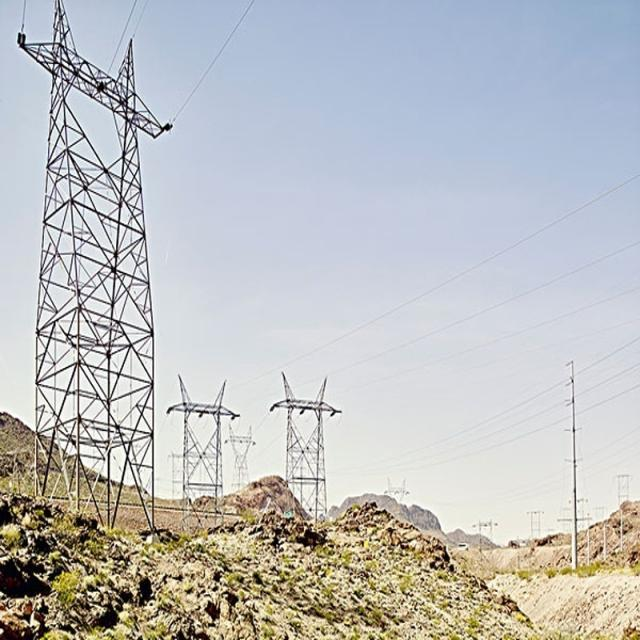non-critical vegetation: (5, 7, 164, 525), (160, 362, 230, 514), (272, 364, 338, 516)
